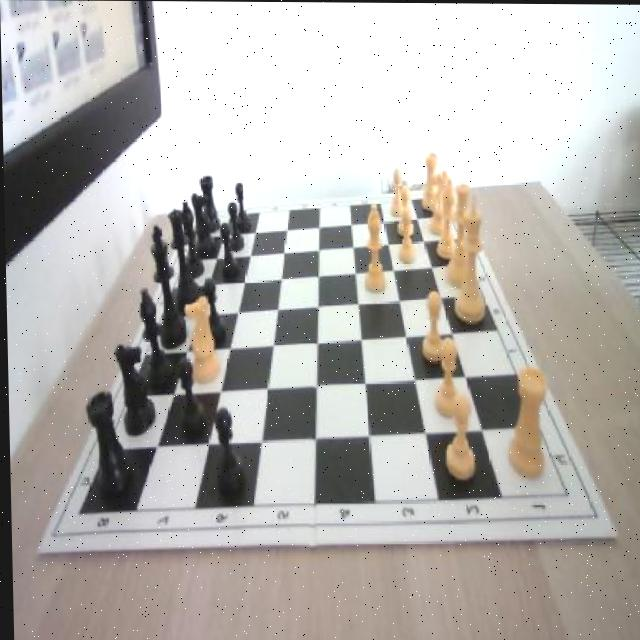bishop: (137, 287, 171, 386), (179, 198, 202, 275)
black-bishop: (149, 224, 188, 347)
black-king: (112, 344, 155, 436), (189, 190, 215, 254)
black-knight: (211, 407, 243, 495), (177, 355, 204, 440), (202, 275, 226, 345), (219, 225, 237, 280), (233, 183, 250, 235), (226, 201, 243, 250)
black-pawn: (167, 208, 199, 310)
black-queen: (85, 391, 130, 505), (200, 175, 220, 232)
black-rook: (361, 200, 387, 293), (434, 178, 457, 256)
white-bishop: (452, 191, 486, 320)
white-king: (183, 295, 217, 380), (427, 167, 452, 237)
white-knight: (441, 394, 476, 483), (427, 338, 458, 420), (419, 289, 446, 360), (395, 207, 415, 263), (396, 184, 412, 237), (390, 165, 404, 215)
white-pawn: (442, 184, 471, 289)
white-queen: (505, 366, 548, 478), (419, 151, 439, 212)
